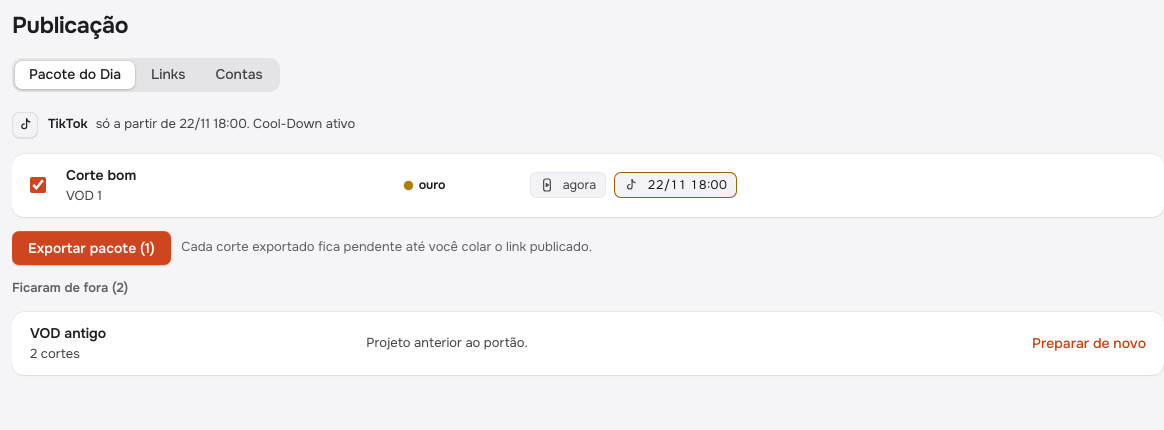
Test: Publicação › pacote mostra quando sai por rede, agrupa quem ficou de fora e exporta os marcados
Expected: the text "Corte bom" is shown, left=66, top=166, right=136, bottom=184
Expected: the text "agora" is shown, left=530, top=172, right=606, bottom=198
Click the button "Exportar pacote (1)" at coordinates (91, 248), box left=12, top=231, right=171, bottom=265
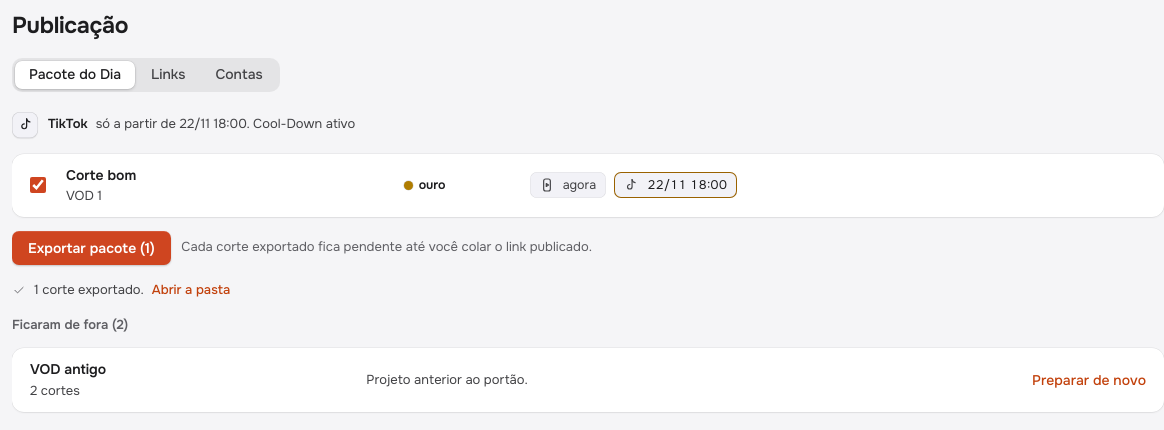
Now the button "Abrir a pasta" is shown, box left=152, top=281, right=230, bottom=300
